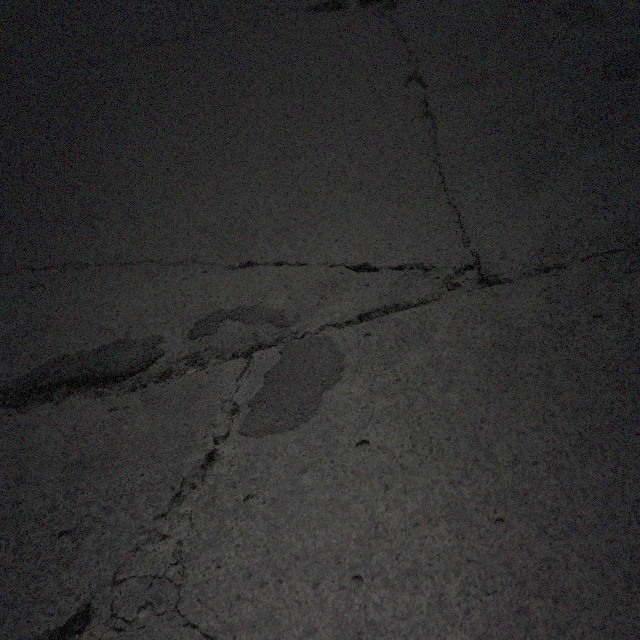pothole: (446, 259, 496, 299), (51, 599, 93, 635), (346, 252, 381, 278), (199, 446, 216, 488)
